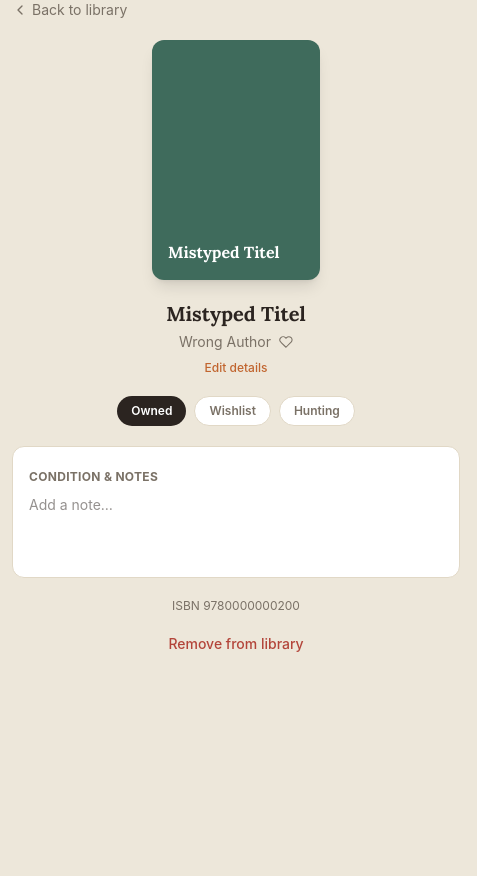
Test: BookDetailPage edit details › lets you correct wrong title/author/language and shows the correction
Expected: the heading "Mistyped Titel" is shown, x1=166 y1=300 x2=306 y2=328
Click the button "Edit details" at (236,368), box x1=204 y1=360 x2=267 y2=376
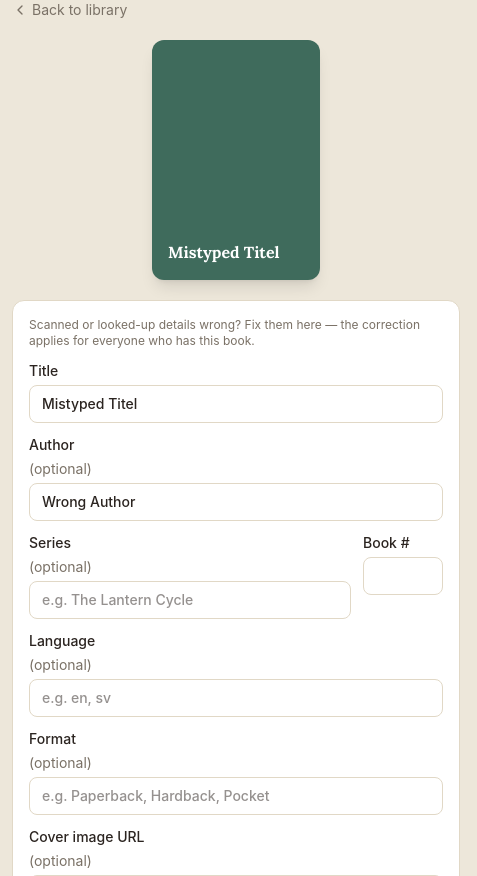
Replace the text in the field labelled "Title" with "The Correct Title" at (236,404), box x1=29 y1=385 x2=443 y2=423
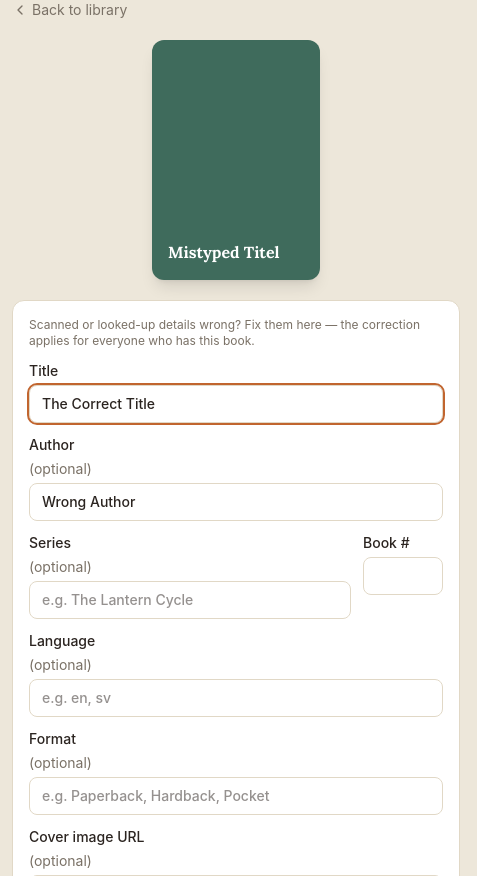
Replace the text in the field labelled "Author (optional)" with "Right Author" at (236,502), box x1=29 y1=483 x2=443 y2=521
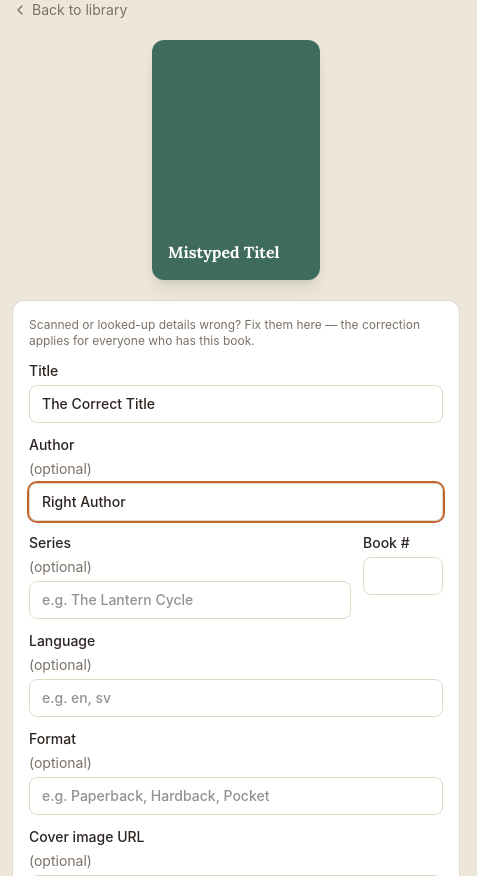
Type "Hardback" into the field labelled "Format (optional)" at (236,796), box x1=29 y1=777 x2=443 y2=815
(page scrolled)
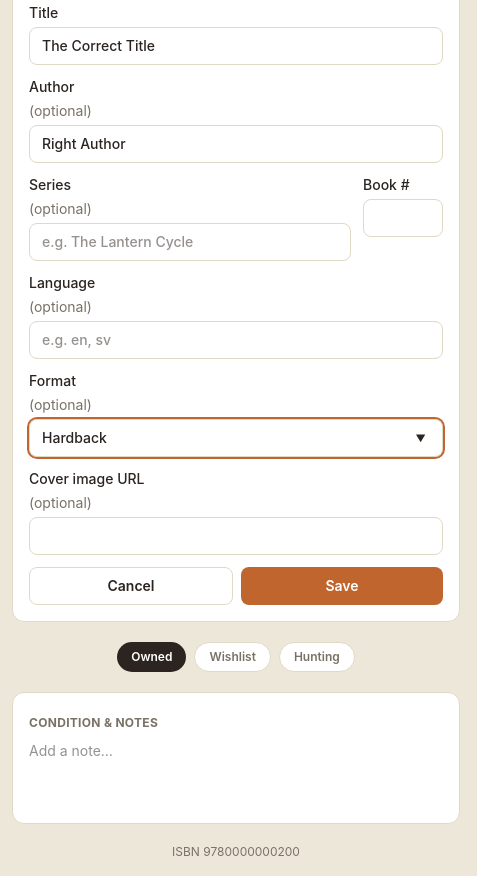
Click the button "Save" at (342,586), box x1=241 y1=567 x2=443 y2=605
(page scrolled)
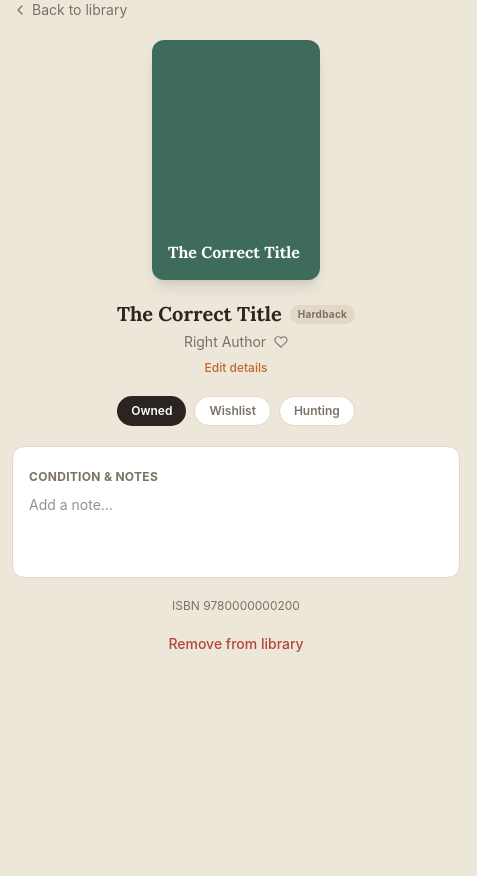
Expected: the heading "The Correct Title" is shown, x1=117 y1=300 x2=282 y2=328
Expected: the text "Right Author" is shown, x1=184 y1=333 x2=288 y2=350
Expected: the text "Hardback" is shown, x1=290 y1=304 x2=355 y2=324
